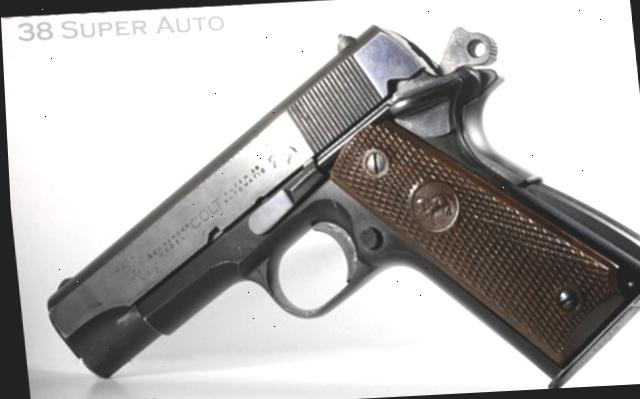pistol: (15, 7, 640, 399)
